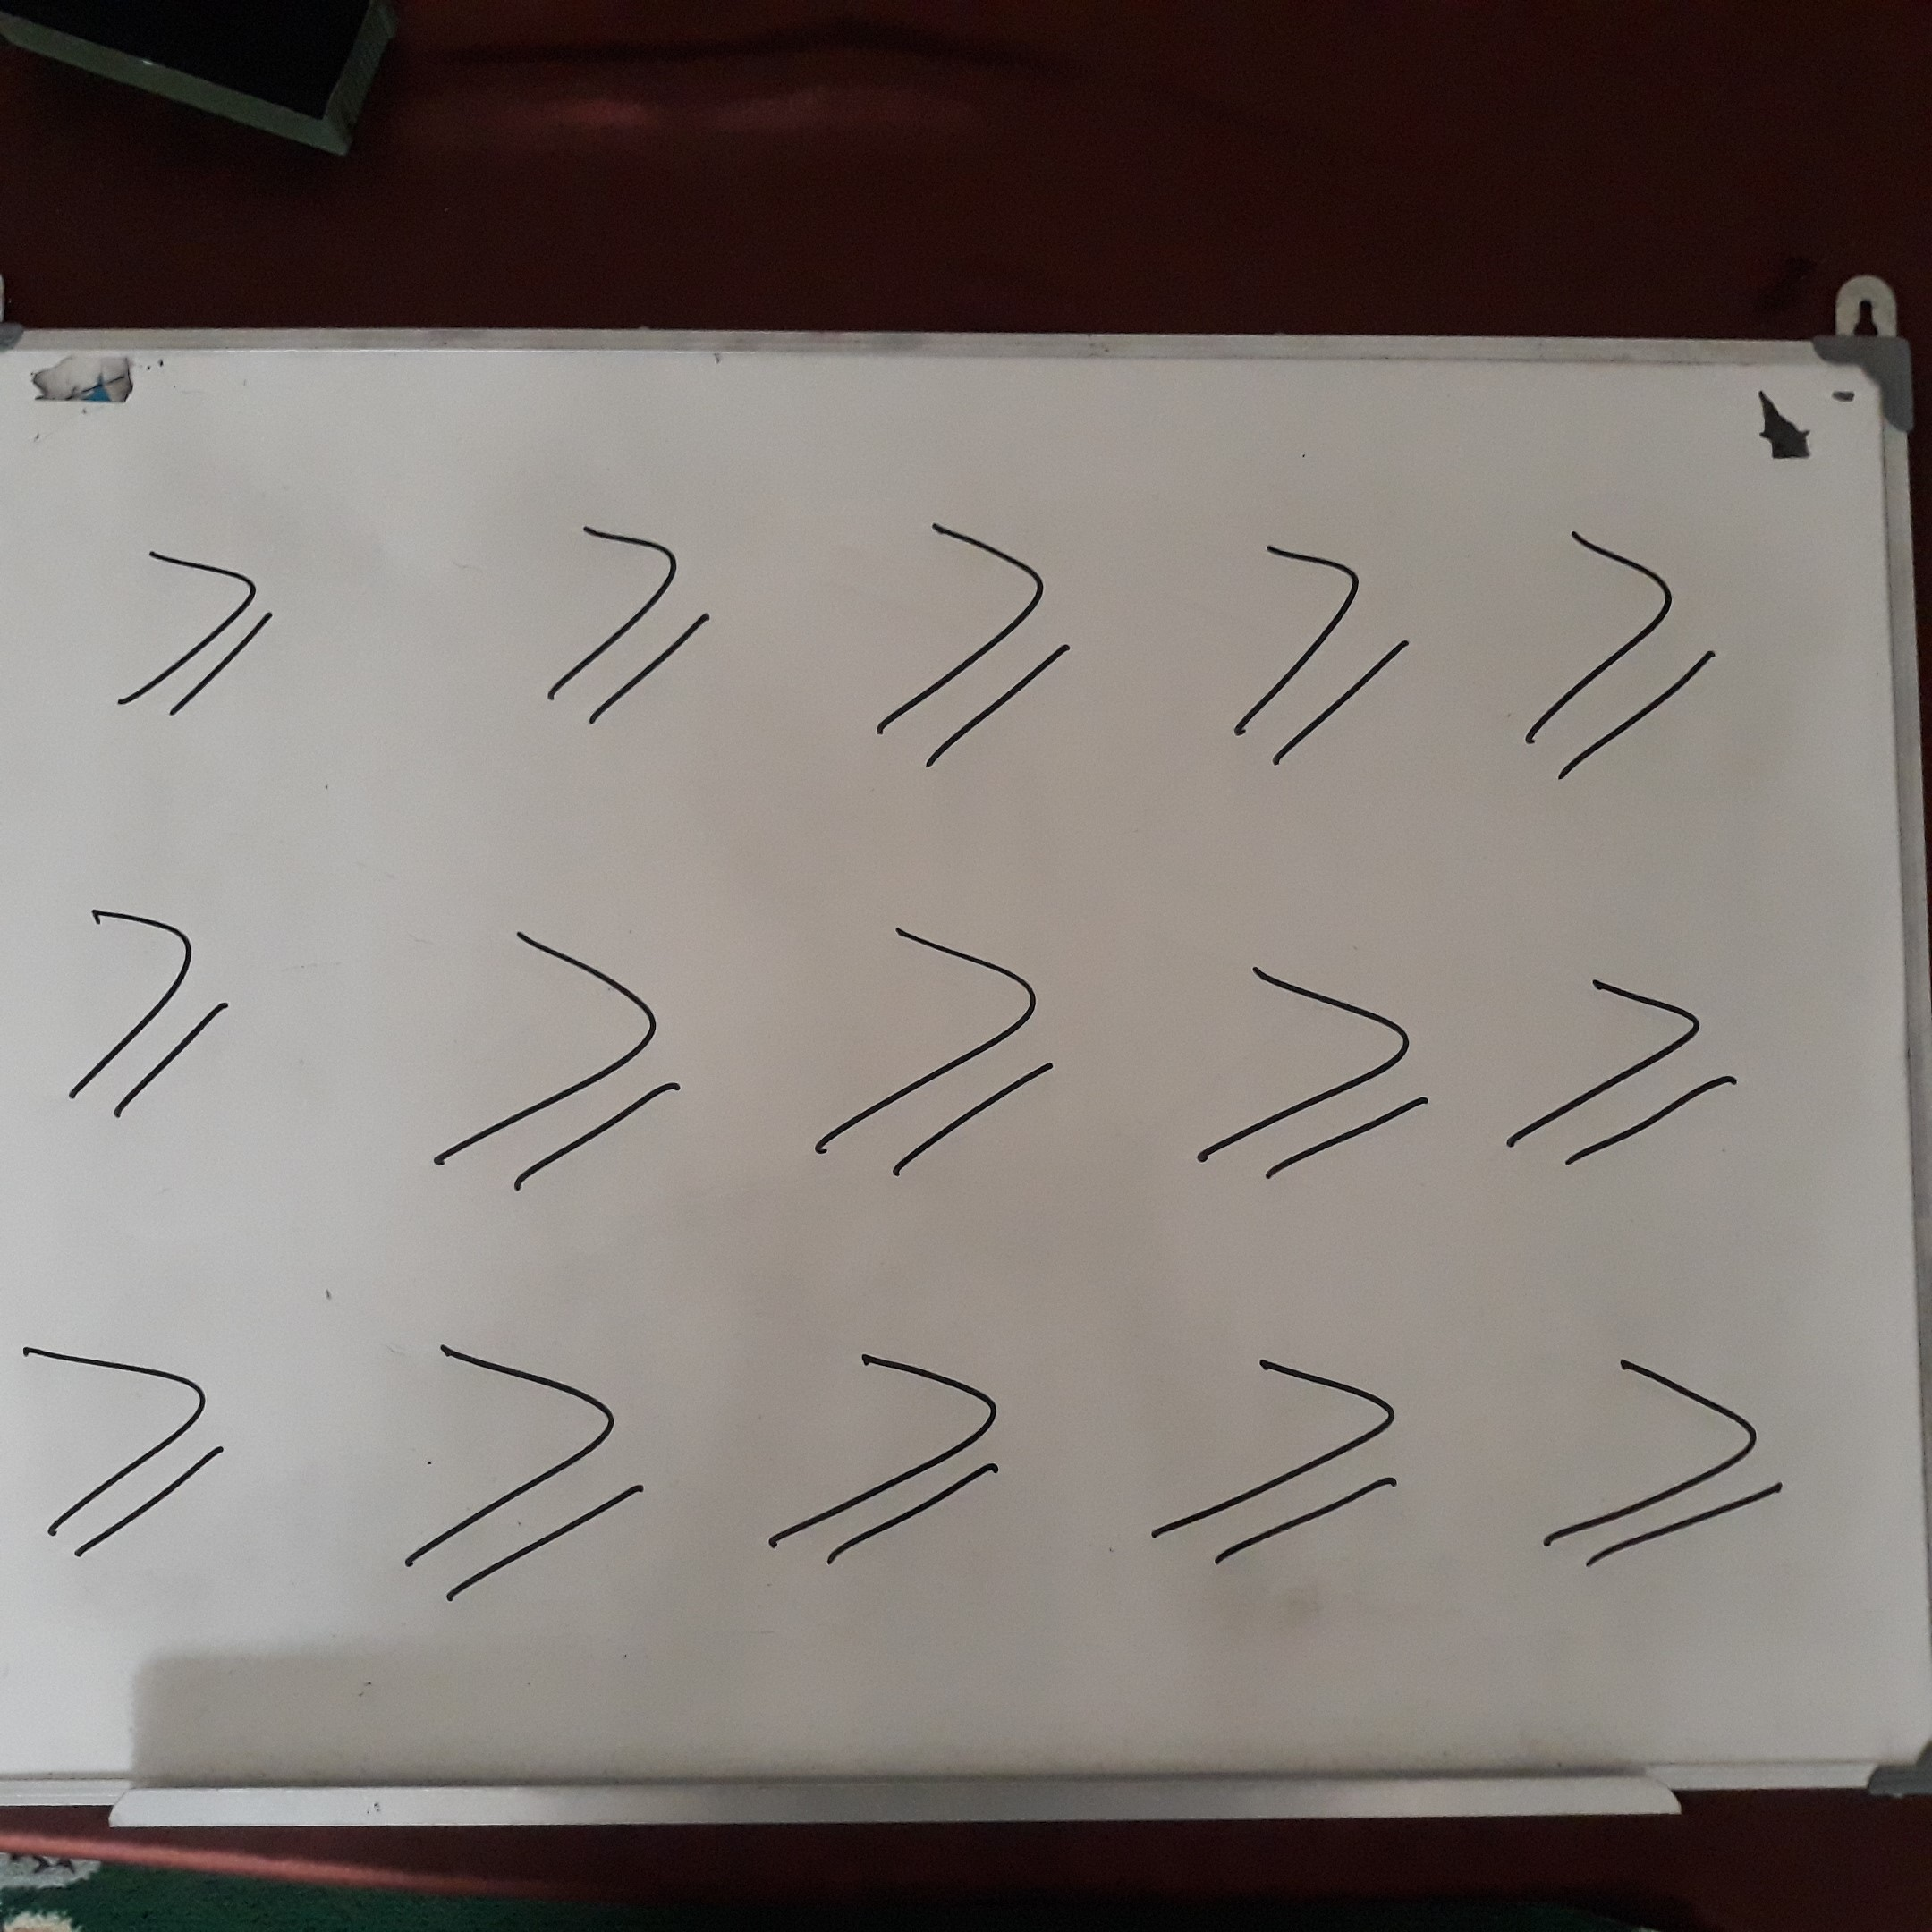morethan-equal: (378, 1316, 665, 1616), (1167, 935, 1460, 1219), (418, 912, 710, 1197), (806, 909, 1098, 1193), (1517, 1333, 1804, 1583), (1137, 1335, 1424, 1585), (1498, 513, 1750, 791), (755, 1310, 1014, 1573), (1499, 948, 1764, 1188), (1, 1326, 265, 1566), (29, 869, 259, 1134), (869, 508, 1087, 784), (1208, 522, 1428, 778), (530, 513, 733, 737), (103, 534, 285, 725)
